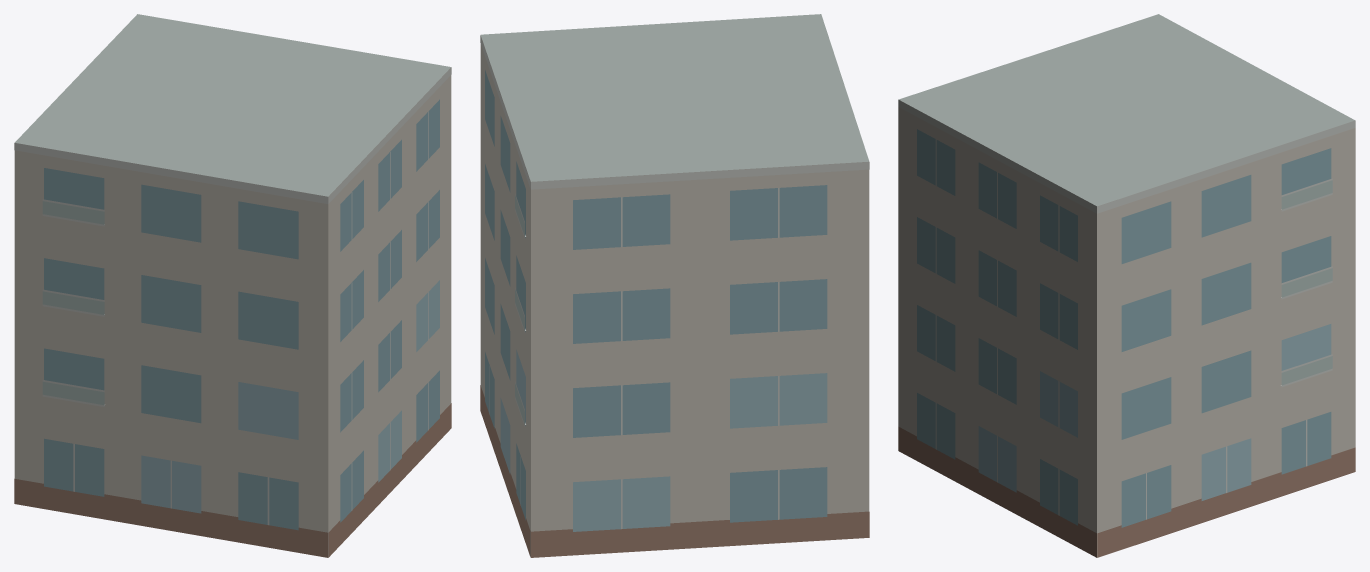
The model's file is survey-upis-32657348.glb.
3 views of the same model, side by side, from view 1: azimuth 30°, elevation 25°; view 2: azimuth 150°, elevation 25°; view 3: azimuth 270°, elevation 25° (orthographic). The views are drawn at different scales.
Parts seen in each view (by area): view 1: survey-upis-32657348.tmp; view 2: survey-upis-32657348.tmp; view 3: survey-upis-32657348.tmp.
Part boxes in pixels (x1,y1,x2,y2): survey-upis-32657348.tmp: (14, 14, 451, 557); survey-upis-32657348.tmp: (480, 14, 869, 557); survey-upis-32657348.tmp: (898, 14, 1355, 557).
Bounding box in the file's own units: 13.75 × 11.7 × 13.8.
